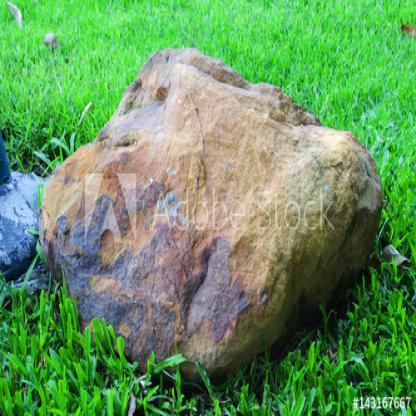Igneous_Granite: (34, 41, 385, 386)
